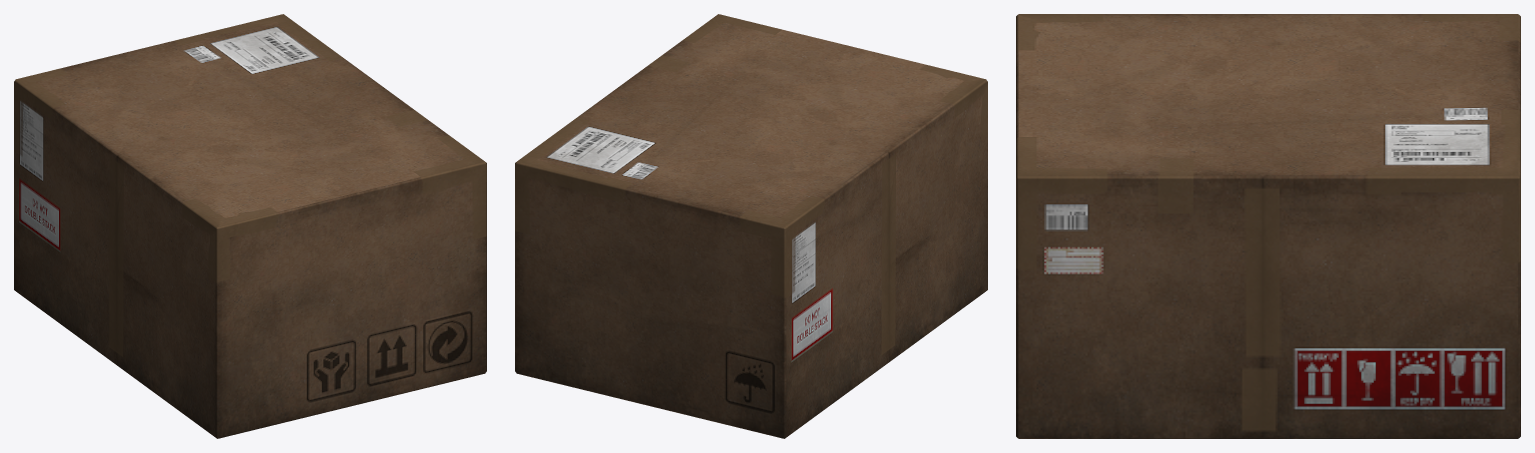
The model's file is Pack_03.fbx.
3 views of the same model, side by side, from view 1: azimuth 30°, elevation 25°; view 2: azimuth 150°, elevation 25°; view 3: azimuth 270°, elevation 25° (orthographic). The views are drawn at different scales.
Parts seen in each view (by area): view 1: polySurface10; view 2: polySurface10; view 3: polySurface10.
Boxes of the visible parts, left/top/right/bottom form: polySurface10: left=14, top=14, right=486, bottom=438; polySurface10: left=515, top=14, right=987, bottom=438; polySurface10: left=1016, top=14, right=1520, bottom=438.
Bounding box in the file's own units: 55.57 × 41.54 × 72.24.
